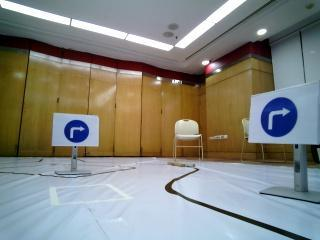right: (251, 95, 319, 140), (53, 111, 100, 144)
